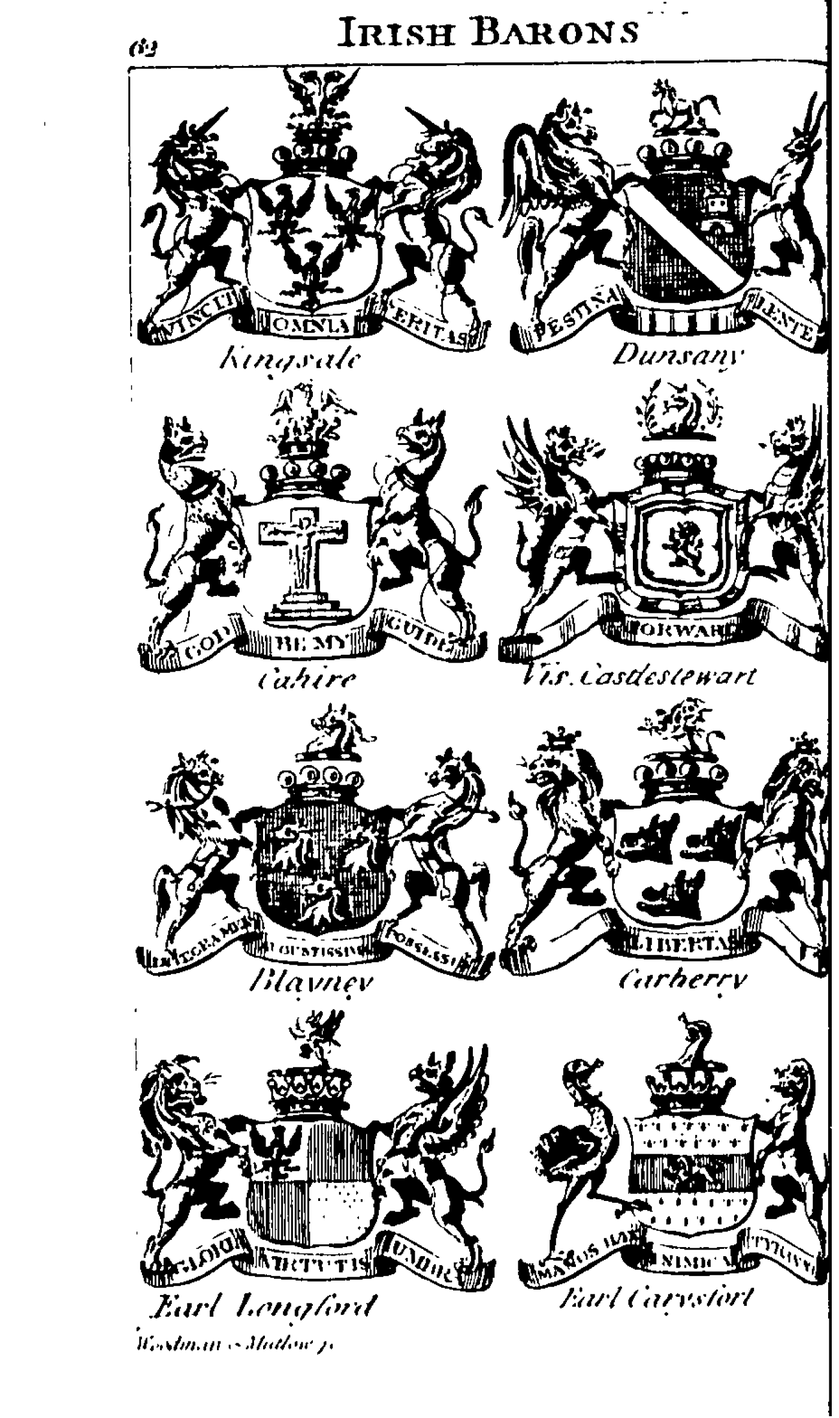coat_of_arms: (139, 1007, 506, 1324), (132, 380, 490, 697), (137, 70, 500, 377), (494, 369, 831, 697), (142, 703, 503, 1009), (492, 62, 834, 372), (509, 1004, 837, 1316), (500, 706, 839, 995)
